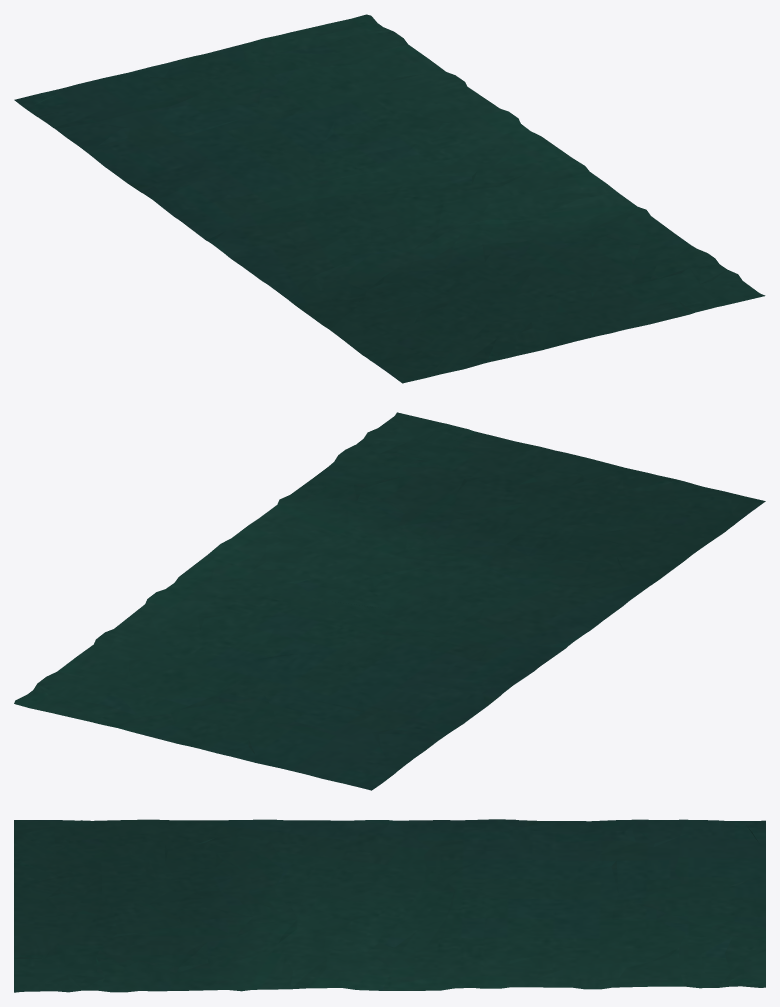
3 renders of one model, top to bottom at view 1: azimuth 30°, elevation 25°; view 2: azimuth 150°, elevation 25°; view 3: azimuth 270°, elevation 25°, orthographic. The views are drawn at different scales.
Bounding box in the file's own units: 113 × 0.8912 × 209.
1 material, 1 textured.
